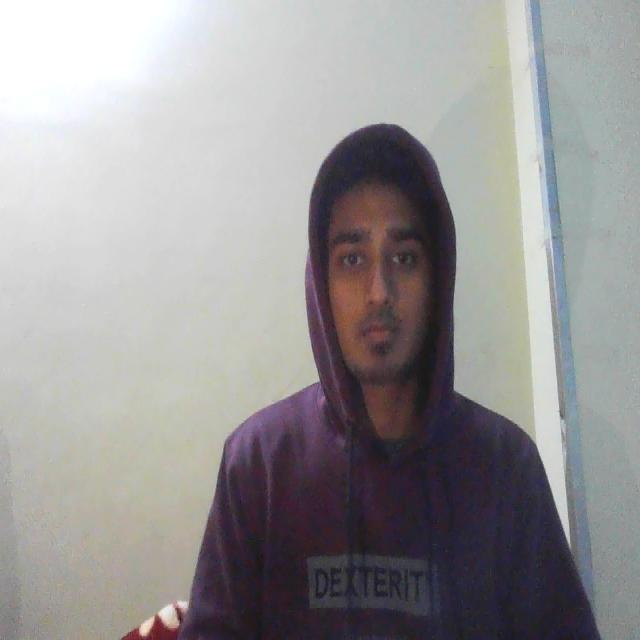real: (312, 131, 451, 393)
